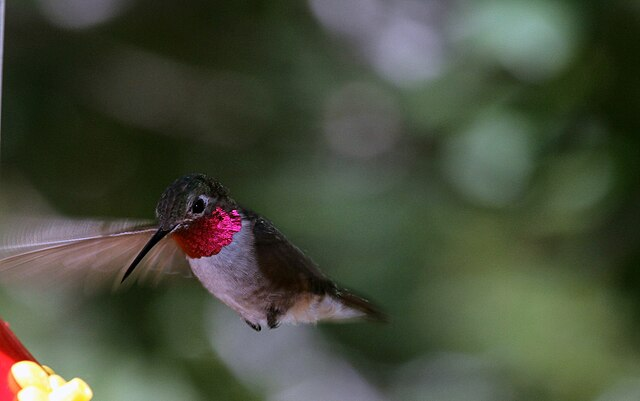selasphorus platycercus: (115, 177, 391, 332)
